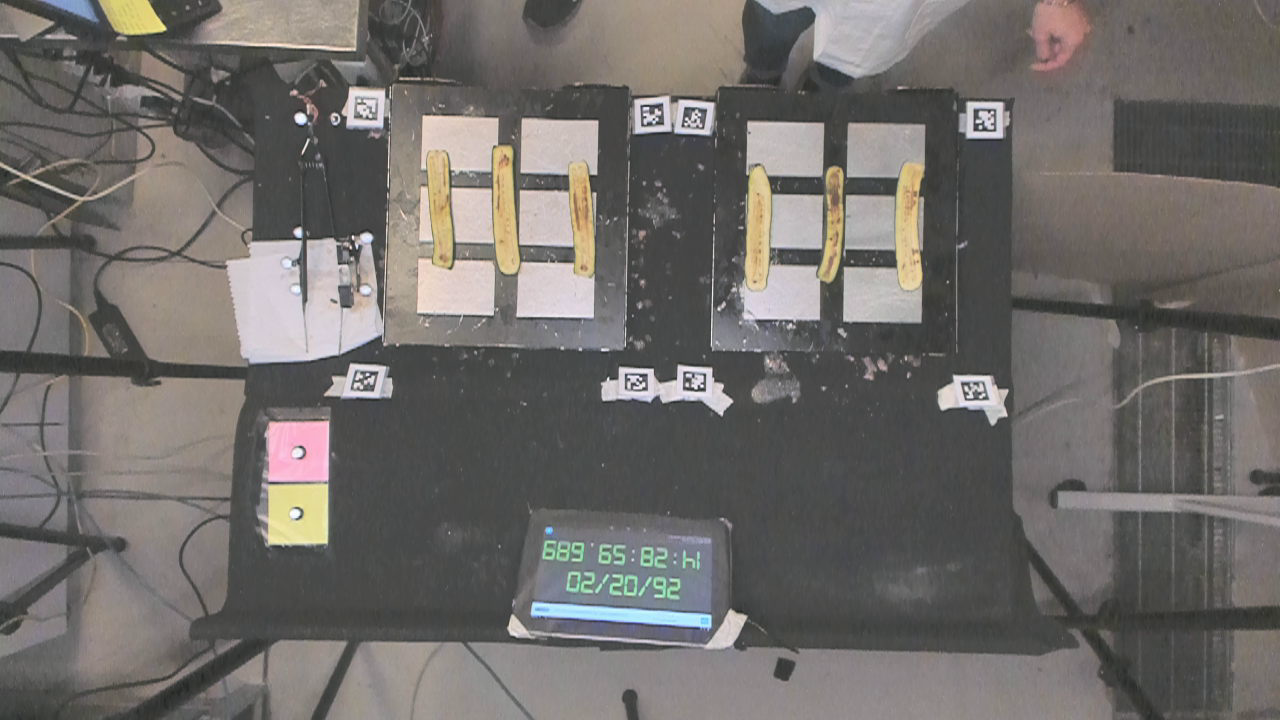marker: (268, 420, 329, 480)
zucchini: (737, 163, 782, 290), (891, 158, 929, 297), (417, 145, 459, 267), (491, 138, 523, 283), (816, 161, 853, 283), (567, 159, 600, 280)
